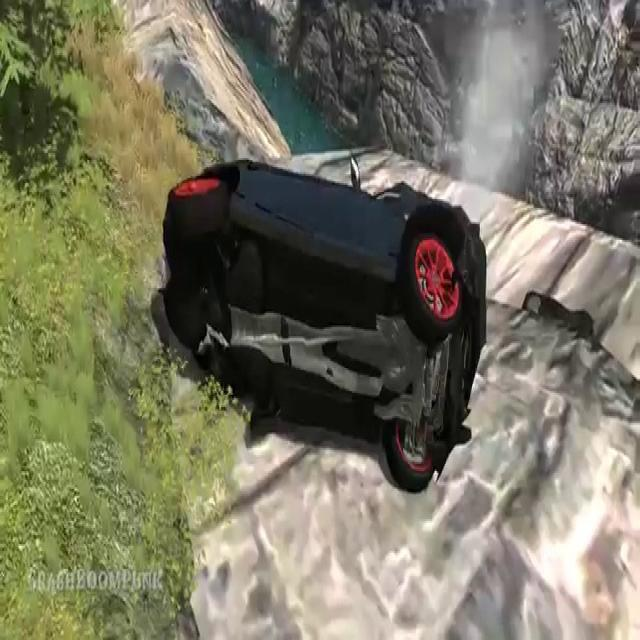accident: (162, 142, 493, 497)
